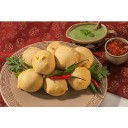bonda: (57, 46, 79, 70), (17, 70, 42, 91), (32, 51, 55, 73), (45, 76, 68, 96), (69, 67, 90, 88)
